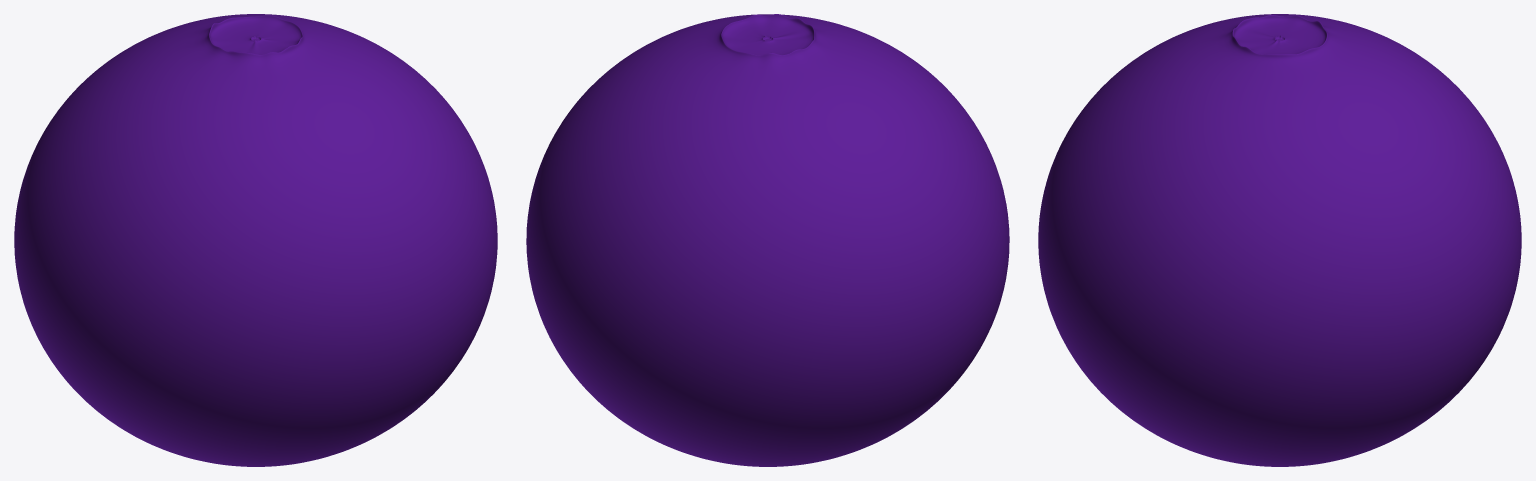
Rendered from blueberry.fbx.
3 renders of one model, left to right at view 1: azimuth 30°, elevation 25°; view 2: azimuth 150°, elevation 25°; view 3: azimuth 270°, elevation 25°, orthographic.
Parts seen in each view (by area): view 1: Sphere; view 2: Sphere; view 3: Sphere.
Part boxes in pixels (bbox=[...]): Sphere: bbox=[14, 14, 497, 466]; Sphere: bbox=[526, 14, 1009, 466]; Sphere: bbox=[1038, 14, 1521, 466].
Size of the model in its own units: 1766 by 1667 by 1766.
